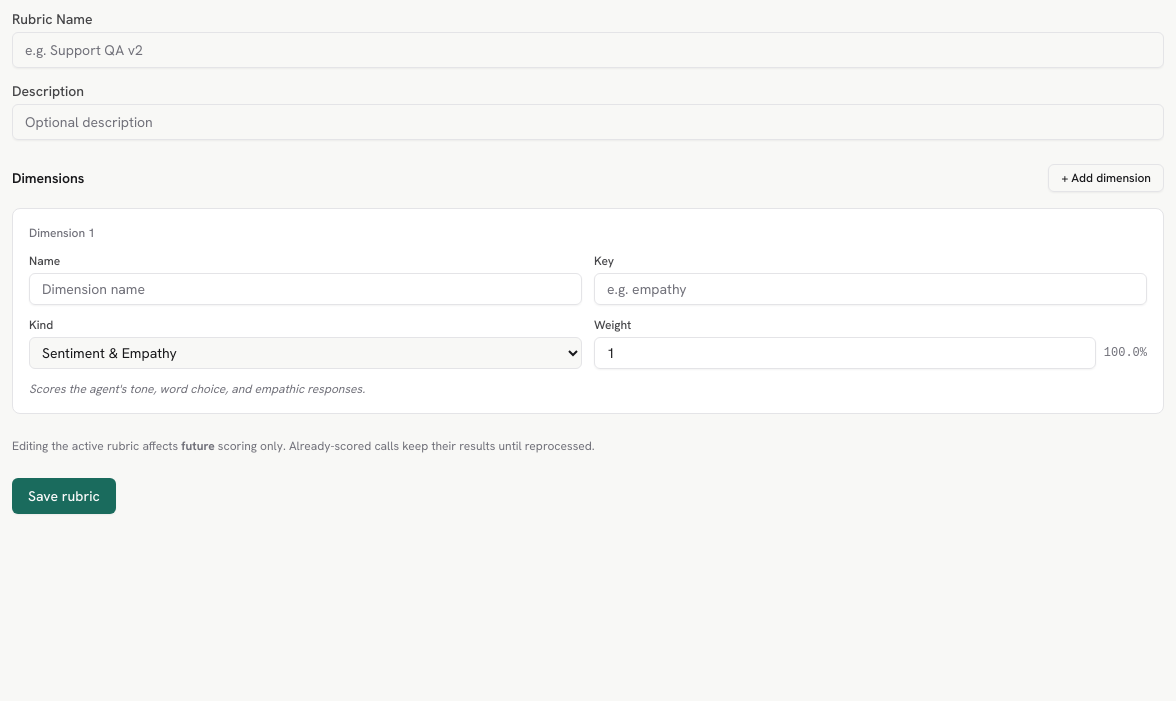
RubricBuilder › add and remove dimensions
Check: the number of elements with test id "dimension-row" is 1, box [12,208,1164,414]
Click the button with test id "add-dimension": (1106, 178) [1048,164,1164,192]
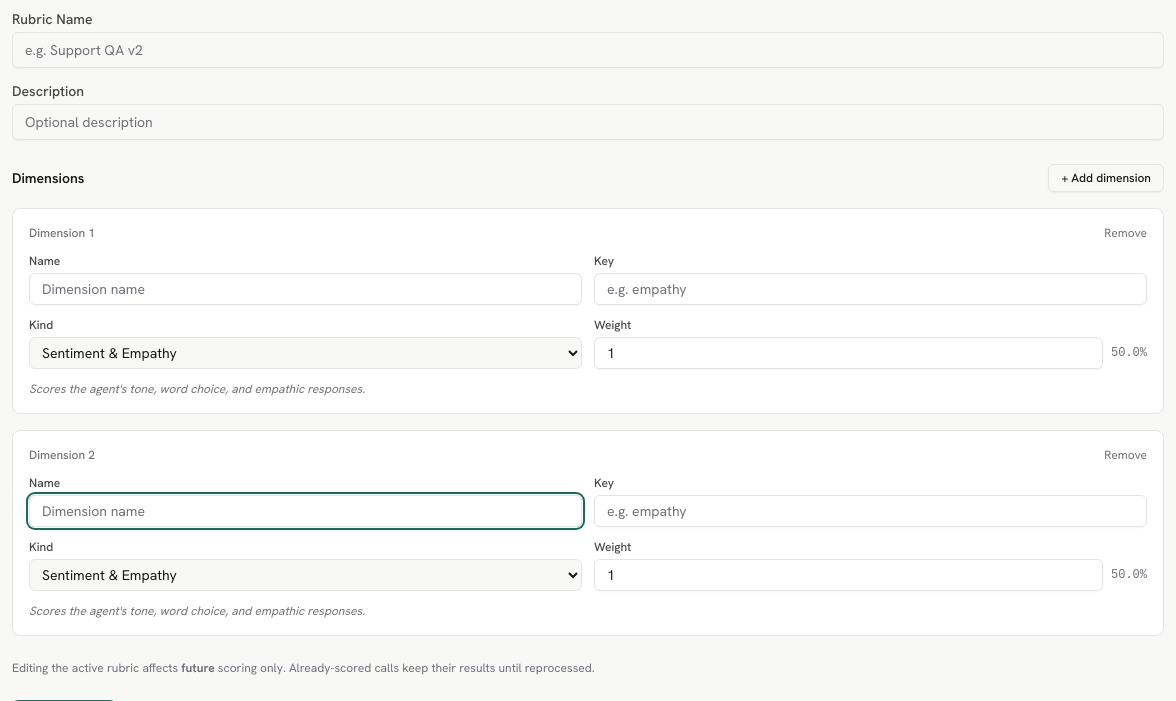
Check: the number of elements with test id "dimension-row" is 2, box [12,208,1164,414]; [12,430,1164,636]
Click the 1st button with test id "remove-dimension": (1126, 233) [1104,225,1147,241]
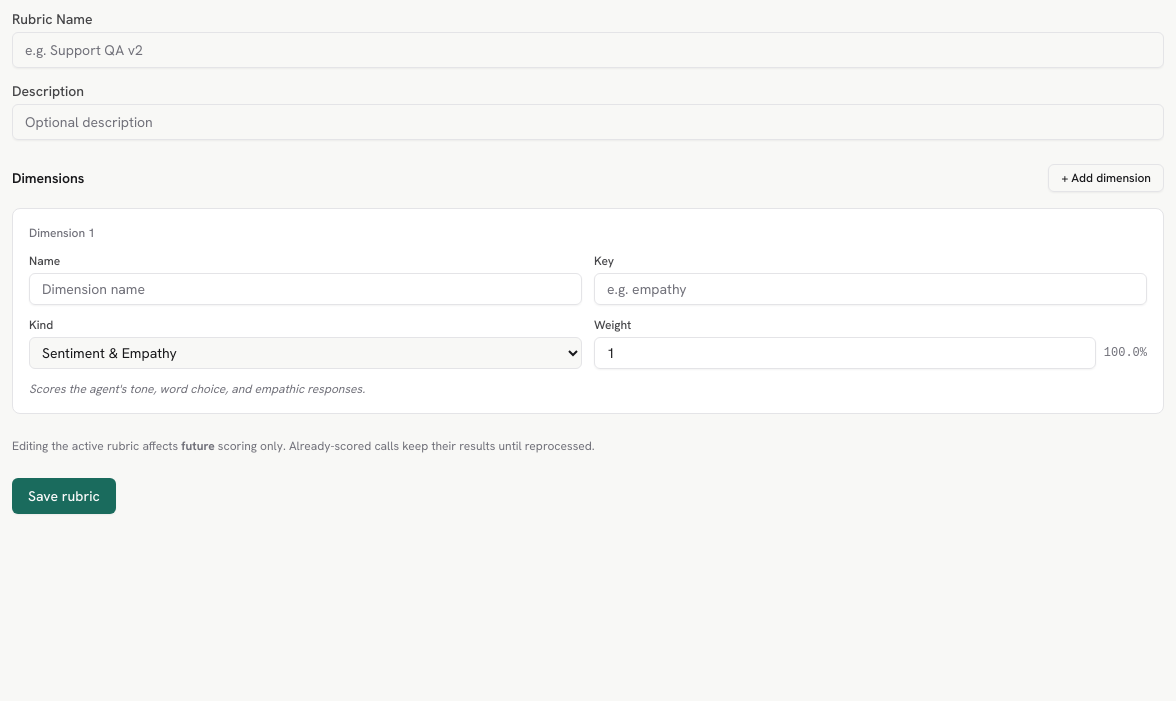
Check: the number of elements with test id "dimension-row" is 1, box [12,208,1164,414]
